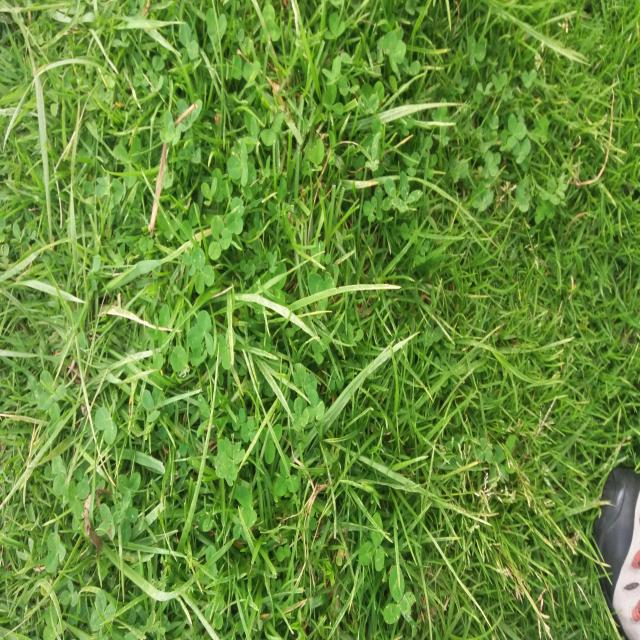Four Leaf Clover: (214, 433, 245, 486)
